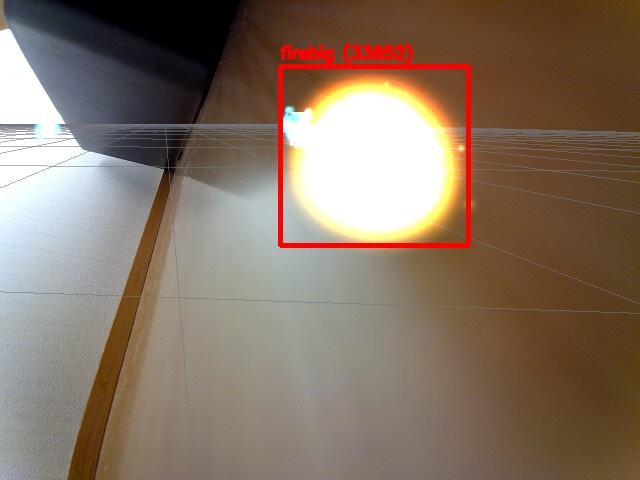firebig: (280, 66, 468, 245)
